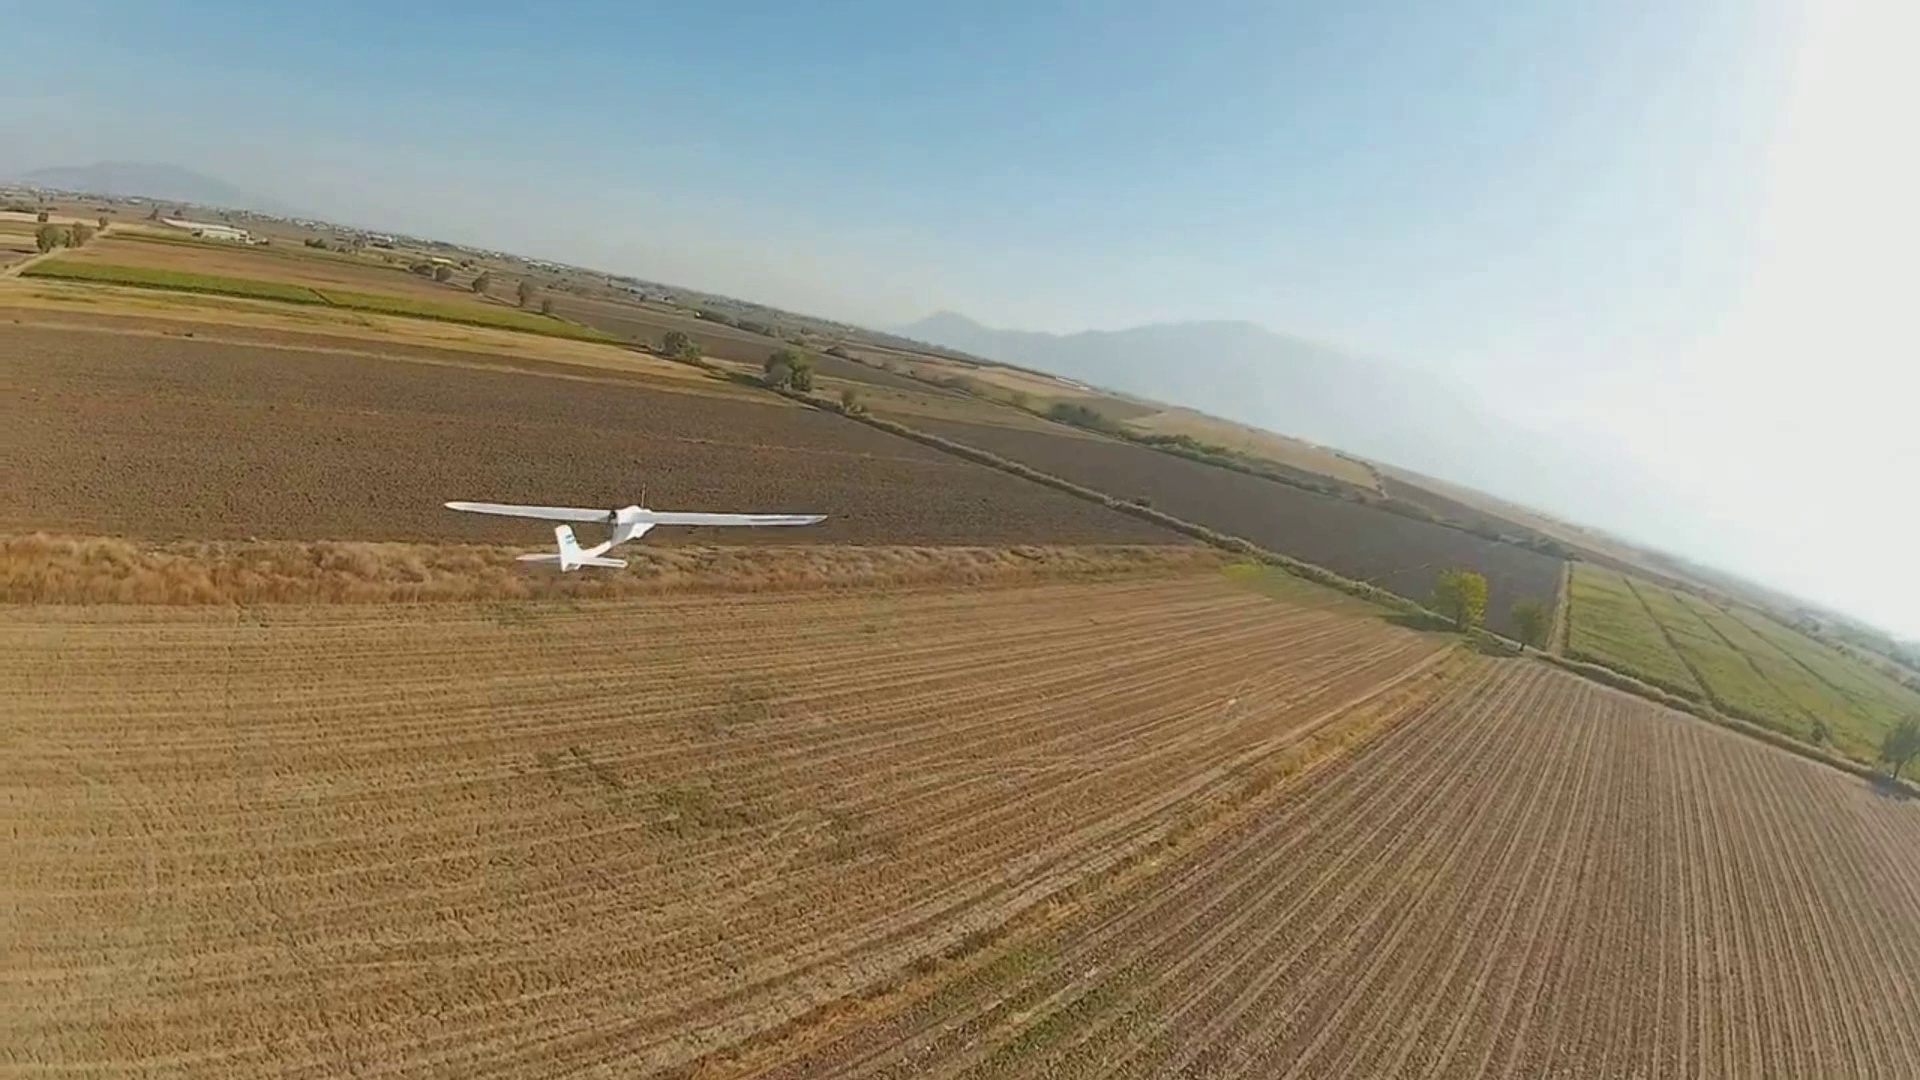airplane: (444, 491, 825, 576)
